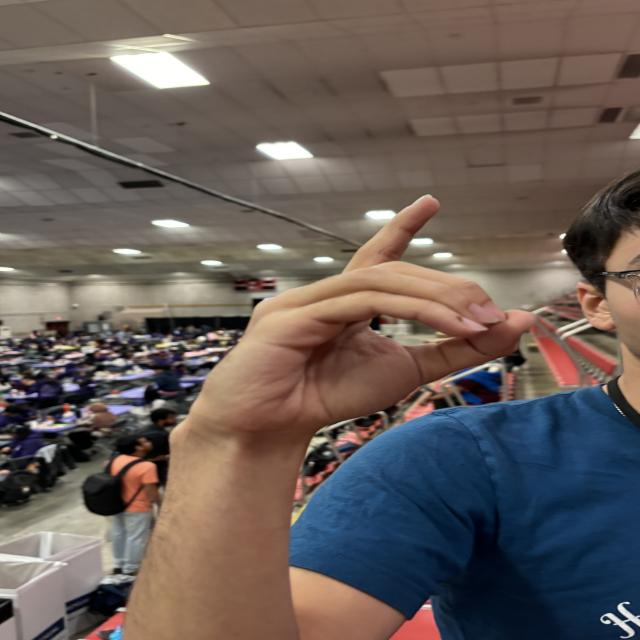D: (226, 175, 546, 405)
